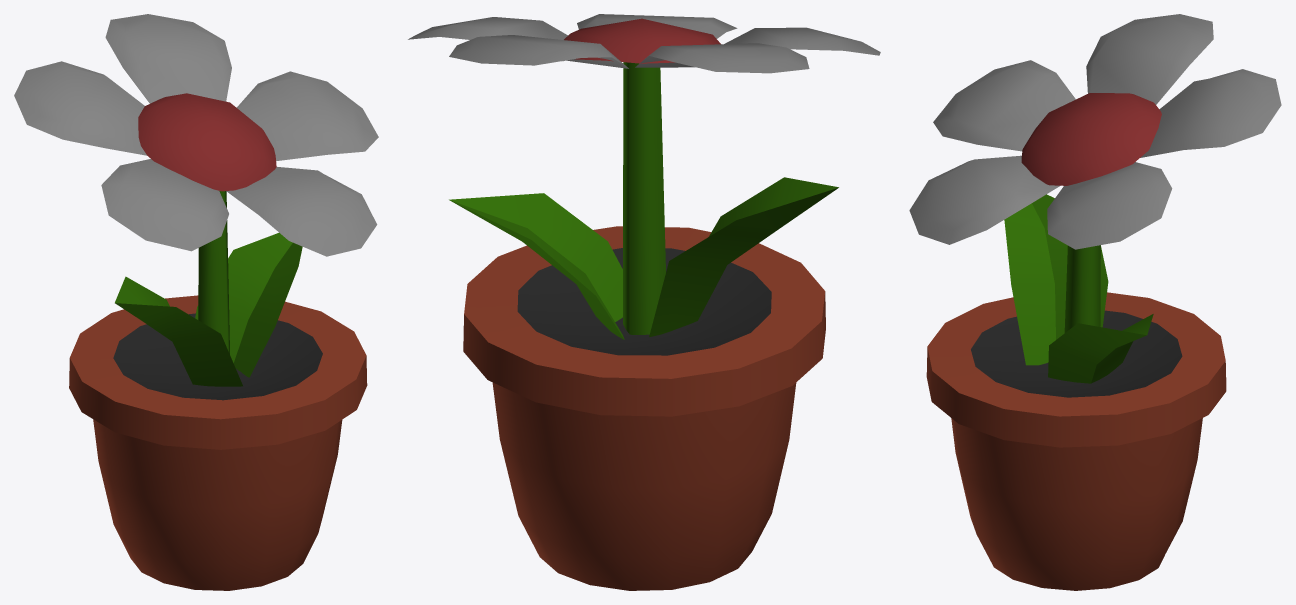
File: plant_flower_01.fbx
3 views of the same model, side by side, from view 1: azimuth 30°, elevation 25°; view 2: azimuth 150°, elevation 25°; view 3: azimuth 270°, elevation 25° (orthographic). The views are drawn at different scales.
Visible parts, largest first — view 1: plant_flower_01; view 2: plant_flower_01; view 3: plant_flower_01.
Boxes of the visible parts, x1=… form: plant_flower_01: x1=14, y1=14, x2=378, y2=590; plant_flower_01: x1=408, y1=14, x2=880, y2=590; plant_flower_01: x1=909, y1=14, x2=1281, y2=590.
Bounding box in the file's own units: 55.88 × 75.9 × 54.14.
